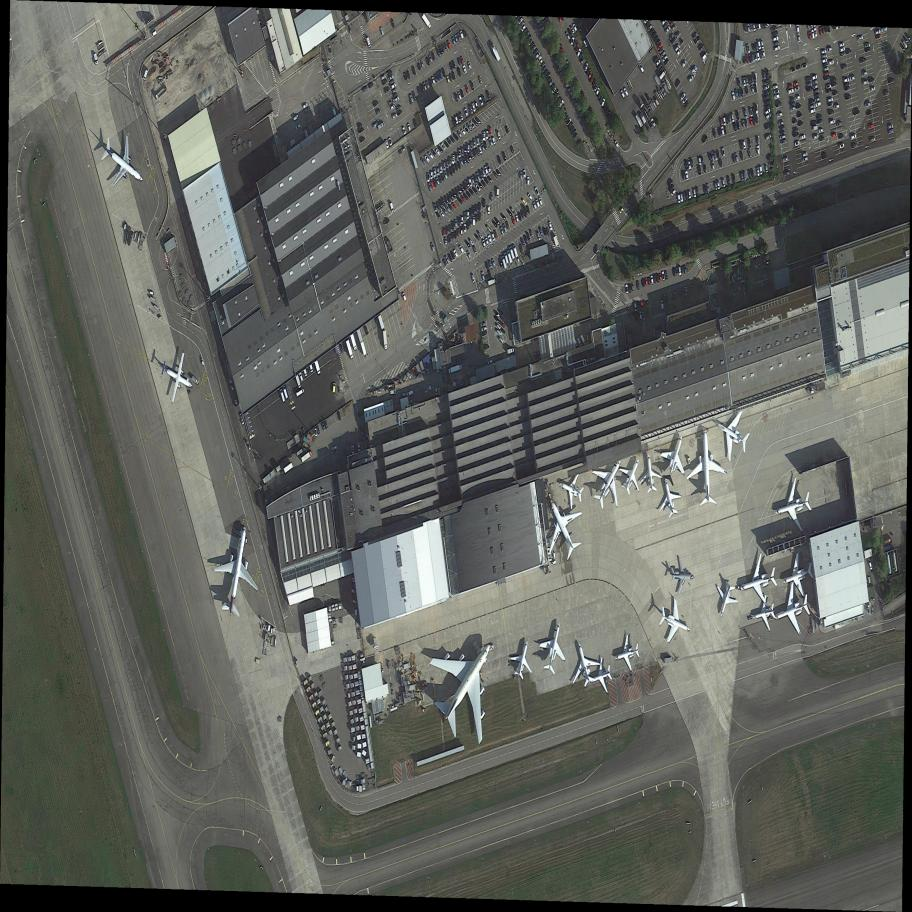large-vehicle: (345, 339, 354, 360), (299, 450, 314, 462), (350, 333, 358, 351), (294, 388, 306, 398), (314, 359, 321, 375), (383, 330, 388, 350), (282, 385, 289, 399), (191, 375, 200, 385), (295, 375, 301, 389), (280, 389, 285, 402)
plane: (388, 592, 549, 768), (519, 485, 605, 582), (201, 512, 269, 629), (570, 440, 640, 526), (147, 335, 213, 418), (680, 421, 730, 513), (704, 394, 761, 472), (734, 547, 784, 614), (530, 608, 574, 681), (771, 579, 818, 647), (770, 474, 817, 540), (565, 631, 606, 701), (653, 425, 697, 489), (608, 446, 652, 508), (653, 590, 698, 650), (706, 565, 748, 627), (647, 470, 690, 528), (779, 546, 817, 601), (504, 627, 540, 684), (555, 461, 590, 513), (611, 630, 646, 678), (635, 447, 664, 502), (748, 593, 782, 639), (585, 653, 618, 699), (666, 550, 697, 597)
small-vehicle: (490, 42, 501, 63), (421, 14, 433, 29), (500, 255, 508, 271), (492, 308, 502, 320), (658, 69, 668, 81), (142, 66, 150, 80), (512, 244, 519, 259), (639, 112, 647, 124), (376, 121, 386, 130), (465, 122, 474, 132), (471, 116, 479, 127), (674, 78, 682, 89), (507, 249, 512, 266), (509, 246, 515, 260), (356, 126, 365, 135), (678, 92, 687, 101), (653, 38, 662, 47), (762, 94, 771, 103), (520, 197, 528, 207), (462, 192, 470, 202), (495, 168, 503, 178), (465, 189, 473, 199), (486, 174, 494, 184), (474, 183, 482, 193), (474, 116, 482, 126), (436, 144, 444, 154), (664, 25, 672, 35), (638, 63, 645, 74), (622, 87, 629, 98), (505, 208, 513, 217), (493, 216, 501, 225), (495, 328, 504, 336), (496, 335, 504, 344), (468, 121, 476, 130), (440, 142, 448, 151), (434, 148, 442, 157), (901, 40, 909, 49), (496, 307, 505, 315), (691, 65, 699, 74), (681, 95, 689, 104), (650, 30, 658, 39), (650, 117, 656, 129), (693, 36, 701, 45), (701, 51, 709, 60), (674, 31, 682, 40), (544, 71, 552, 80), (550, 85, 558, 94), (458, 244, 465, 254), (471, 185, 478, 195), (566, 27, 573, 37), (644, 92, 651, 102), (647, 120, 654, 130), (619, 89, 626, 99), (575, 47, 582, 57), (487, 234, 493, 245), (463, 107, 469, 118), (522, 207, 528, 218), (496, 154, 502, 165), (93, 52, 98, 65), (485, 225, 493, 233), (480, 179, 488, 187), (518, 20, 526, 28), (462, 125, 470, 133), (459, 128, 467, 136), (423, 155, 431, 163), (419, 157, 427, 165), (528, 42, 536, 50), (498, 320, 506, 328), (658, 47, 666, 55), (656, 42, 664, 50), (536, 55, 544, 63), (762, 79, 770, 87), (473, 233, 480, 242), (453, 249, 460, 258), (477, 231, 484, 240), (451, 201, 458, 210), (483, 176, 490, 185), (386, 74, 395, 81), (294, 123, 303, 130), (456, 130, 463, 139), (449, 135, 456, 144), (443, 140, 450, 149), (430, 149, 437, 158), (849, 134, 858, 141), (786, 88, 795, 95), (529, 45, 538, 52), (674, 44, 681, 53), (670, 189, 677, 198), (644, 123, 651, 132), (481, 239, 487, 249), (502, 223, 508, 233), (499, 226, 505, 236), (454, 187, 460, 197), (504, 253, 509, 265), (409, 93, 415, 103), (366, 36, 371, 48), (488, 137, 494, 147), (456, 67, 462, 77), (478, 97, 484, 107), (481, 94, 486, 106), (614, 140, 620, 150), (574, 43, 580, 53), (509, 206, 516, 214), (468, 238, 475, 246), (491, 220, 498, 228), (439, 211, 446, 219), (492, 170, 499, 178), (477, 181, 484, 189), (507, 348, 515, 355), (488, 279, 496, 286), (618, 207, 625, 215), (517, 17, 525, 24), (371, 121, 379, 128), (384, 86, 392, 93), (301, 102, 309, 109), (452, 133, 460, 140), (427, 152, 434, 160), (849, 75, 857, 82), (702, 135, 709, 143), (856, 34, 864, 41), (875, 34, 883, 41), (880, 26, 888, 33), (464, 240, 471, 248), (493, 315, 500, 323), (887, 77, 895, 84), (359, 136, 367, 143), (372, 99, 380, 106), (771, 31, 779, 38), (773, 45, 781, 52), (688, 75, 695, 83), (683, 100, 690, 108), (681, 60, 688, 68), (697, 43, 705, 50), (668, 33, 675, 41), (557, 100, 565, 107), (763, 84, 771, 91), (764, 108, 772, 115), (764, 113, 772, 120), (765, 133, 772, 141), (667, 180, 674, 188), (751, 41, 756, 52), (491, 257, 496, 268), (451, 70, 456, 81), (525, 204, 530, 215), (502, 151, 507, 162), (684, 170, 689, 181), (535, 199, 541, 208), (442, 258, 448, 267), (447, 253, 453, 262), (416, 86, 422, 95), (462, 29, 468, 38), (668, 183, 674, 192), (565, 31, 571, 40), (571, 128, 577, 137), (572, 23, 578, 32), (577, 53, 583, 62), (572, 40, 578, 49), (511, 216, 516, 226), (535, 186, 540, 196), (462, 180, 467, 190), (481, 168, 486, 178), (462, 156, 467, 166), (467, 153, 472, 163), (525, 231, 530, 241), (523, 234, 528, 244), (548, 221, 553, 231), (517, 211, 522, 221), (471, 274, 476, 284), (520, 208, 525, 218), (412, 90, 417, 100), (388, 137, 393, 147), (447, 40, 452, 50), (422, 81, 427, 91), (459, 30, 464, 40), (439, 45, 444, 55), (431, 51, 436, 61), (428, 54, 433, 64), (380, 26, 385, 36), (431, 76, 436, 86), (427, 181, 432, 191), (470, 81, 475, 91), (478, 75, 483, 85), (459, 55, 464, 65), (454, 115, 459, 125), (471, 102, 476, 112), (474, 100, 479, 110), (509, 145, 514, 155), (402, 71, 407, 81), (324, 420, 329, 430), (321, 422, 326, 432), (601, 98, 606, 108), (527, 193, 534, 200), (522, 28, 529, 35), (520, 25, 527, 32), (376, 108, 383, 115), (381, 79, 388, 86), (390, 83, 397, 90), (380, 74, 387, 81), (524, 31, 531, 38), (830, 76, 837, 83), (868, 77, 875, 84), (862, 79, 869, 86), (864, 42, 871, 49), (874, 29, 881, 36), (499, 328, 506, 335), (661, 55, 668, 62), (660, 51, 667, 58), (691, 33, 698, 40), (671, 24, 678, 31), (652, 56, 659, 63), (565, 118, 572, 125), (534, 52, 541, 59), (466, 251, 472, 259), (459, 183, 465, 191), (444, 256, 450, 264), (448, 203, 454, 211), (445, 205, 451, 213), (441, 207, 447, 215), (460, 194, 466, 202), (388, 79, 396, 85), (446, 137, 452, 145), (528, 38, 534, 46), (839, 46, 847, 52), (850, 143, 858, 149), (828, 119, 836, 125), (799, 135, 807, 141), (792, 131, 800, 137), (842, 82, 850, 88), (882, 89, 890, 95), (853, 109, 861, 115), (772, 41, 780, 47), (647, 24, 653, 32), (663, 22, 669, 30), (569, 26, 575, 34), (567, 122, 573, 130), (538, 58, 544, 66), (655, 59, 661, 67), (457, 185, 462, 194), (538, 197, 543, 206), (505, 220, 510, 229), (451, 188, 456, 197), (466, 180, 471, 189), (476, 172, 481, 181), (484, 165, 489, 174), (487, 164, 492, 173), (465, 154, 470, 163), (470, 150, 475, 159), (449, 190, 454, 199), (443, 194, 448, 203), (436, 201, 441, 210), (520, 237, 525, 246), (539, 227, 544, 236), (519, 245, 524, 254), (484, 260, 489, 269), (385, 139, 390, 148), (406, 70, 411, 79), (451, 36, 456, 45), (454, 34, 459, 43), (441, 43, 446, 52), (391, 20, 396, 29), (328, 45, 333, 54), (332, 107, 337, 116), (478, 146, 483, 155), (483, 141, 488, 150), (432, 178, 437, 187), (430, 180, 435, 189), (454, 92, 459, 101), (456, 57, 461, 66), (451, 60, 456, 69), (448, 61, 453, 70), (436, 71, 441, 80), (459, 112, 464, 121), (504, 125, 509, 134), (746, 23, 751, 32), (760, 40, 765, 49), (316, 426, 321, 435), (583, 39, 588, 48), (595, 87, 600, 96), (584, 63, 589, 72), (747, 149, 752, 158), (726, 177, 731, 186), (390, 202, 394, 213), (469, 104, 473, 115), (797, 32, 801, 43), (749, 107, 753, 118), (681, 170, 685, 181), (500, 213, 506, 220), (468, 188, 474, 195), (496, 323, 502, 330), (481, 326, 488, 332), (480, 322, 487, 328), (393, 96, 400, 102), (362, 86, 369, 92), (826, 97, 833, 103), (825, 83, 832, 89), (823, 71, 830, 77), (820, 49, 827, 55), (831, 81, 837, 88), (839, 142, 845, 149), (869, 136, 876, 142), (814, 97, 821, 103), (812, 79, 819, 85), (811, 74, 818, 80), (801, 63, 808, 69), (802, 156, 809, 162), (859, 57, 866, 63), (812, 134, 819, 140), (795, 103, 802, 109), (845, 94, 852, 100), (771, 26, 778, 32), (772, 36, 779, 42), (396, 109, 403, 115), (331, 445, 338, 451), (664, 58, 670, 65), (649, 28, 655, 35), (678, 39, 685, 45), (670, 37, 676, 44), (779, 134, 786, 140), (548, 80, 554, 87), (541, 66, 547, 73), (540, 62, 546, 69), (764, 105, 771, 111), (777, 112, 784, 118), (742, 54, 746, 64), (532, 202, 537, 210), (526, 176, 530, 186), (472, 246, 477, 254), (485, 237, 489, 247), (479, 169, 483, 179), (636, 280, 640, 290), (625, 284, 629, 294), (402, 293, 407, 301), (634, 302, 638, 312), (678, 266, 682, 276), (672, 266, 676, 276), (450, 251, 455, 259), (488, 260, 492, 270), (481, 271, 485, 281), (438, 175, 443, 183), (402, 126, 406, 136), (419, 84, 424, 92), (457, 32, 461, 42), (436, 47, 440, 57), (428, 79, 433, 87), (497, 131, 501, 141), (433, 168, 437, 178), (455, 153, 459, 163), (464, 146, 468, 156), (463, 64, 467, 74), (449, 73, 454, 81), (468, 61, 472, 71), (457, 113, 461, 123), (747, 44, 751, 54), (756, 52, 761, 60), (494, 230, 498, 240), (477, 203, 482, 211), (594, 244, 598, 254), (811, 29, 815, 39), (748, 53, 752, 63), (758, 41, 762, 51), (332, 383, 336, 393), (685, 190, 689, 200), (677, 194, 681, 204), (570, 37, 575, 45), (597, 92, 602, 100), (593, 84, 598, 92), (589, 76, 594, 84), (588, 71, 593, 79), (580, 56, 585, 64), (706, 184, 710, 194), (744, 118, 748, 128), (725, 114, 729, 124), (728, 113, 732, 123), (687, 160, 691, 170), (721, 126, 725, 136), (714, 181, 718, 191), (722, 178, 726, 188), (515, 214, 519, 223), (454, 162, 458, 171), (449, 167, 453, 176), (468, 178, 472, 187), (447, 193, 451, 202), (483, 344, 489, 350), (640, 301, 644, 310), (664, 270, 668, 279), (650, 275, 654, 284), (661, 300, 664, 312), (468, 218, 472, 227), (537, 232, 541, 241), (407, 123, 411, 132), (392, 113, 398, 119), (412, 66, 416, 75), (436, 177, 440, 186), (367, 81, 373, 87), (348, 26, 352, 35), (293, 115, 299, 121), (434, 74, 438, 83), (492, 136, 496, 145), (442, 68, 446, 77), (440, 70, 444, 79), (458, 91, 462, 100), (487, 91, 491, 100), (826, 88, 832, 94), (841, 64, 847, 70), (839, 42, 845, 48), (839, 50, 845, 56), (739, 141, 743, 150), (736, 120, 740, 129), (831, 90, 837, 96), (831, 132, 837, 138), (809, 103, 815, 109), (793, 81, 799, 87), (794, 141, 800, 147), (870, 86, 876, 92), (904, 38, 910, 44), (887, 123, 893, 129), (754, 52, 758, 61), (762, 49, 766, 58), (457, 160, 461, 169), (708, 152, 712, 161), (814, 28, 818, 37), (796, 25, 800, 34), (755, 42, 759, 51), (819, 26, 823, 35), (314, 428, 318, 437), (357, 443, 361, 452), (351, 445, 355, 454), (784, 171, 790, 177), (676, 49, 682, 55), (869, 562, 873, 571), (533, 49, 539, 55), (748, 75, 752, 84), (735, 89, 739, 98), (732, 91, 736, 100), (742, 119, 746, 128), (744, 109, 748, 118), (731, 113, 735, 122), (740, 88, 744, 97), (779, 130, 785, 136), (778, 120, 784, 126), (773, 84, 779, 90), (723, 125, 727, 134), (719, 116, 723, 125), (712, 128, 716, 137), (734, 153, 738, 162), (698, 166, 702, 175), (716, 180, 720, 189), (740, 152, 744, 161), (759, 166, 763, 175), (420, 60, 425, 67), (815, 102, 822, 107), (797, 120, 804, 125), (796, 112, 803, 117), (816, 114, 823, 119), (816, 118, 823, 123), (780, 139, 787, 144), (773, 89, 780, 94), (662, 270, 665, 281), (452, 154, 455, 165), (478, 212, 481, 223), (680, 192, 683, 203), (743, 76, 746, 87), (522, 170, 526, 178), (452, 165, 456, 173), (430, 243, 434, 251), (491, 233, 495, 241), (459, 157, 463, 165), (439, 199, 443, 207), (529, 229, 533, 237), (482, 199, 486, 207), (546, 228, 550, 236), (542, 227, 546, 235), (444, 171, 448, 179), (444, 42, 448, 50), (426, 81, 430, 89), (481, 144, 485, 152), (446, 76, 450, 84), (466, 86, 470, 94), (460, 89, 464, 97), (752, 23, 756, 31), (688, 191, 692, 199), (753, 74, 757, 82), (684, 160, 688, 168), (743, 141, 747, 149), (482, 331, 488, 336), (473, 217, 476, 227), (496, 188, 499, 198), (464, 212, 467, 222), (390, 104, 395, 110), (392, 92, 398, 97), (391, 88, 397, 93), (483, 132, 486, 142), (473, 139, 476, 149), (437, 166, 440, 176), (467, 144, 470, 154), (868, 124, 874, 129), (824, 76, 830, 81), (823, 67, 829, 72), (829, 60, 834, 66), (822, 58, 828, 63), (822, 53, 827, 59), (827, 47, 833, 52), (834, 104, 840, 109), (838, 134, 844, 139), (836, 121, 842, 126), (865, 102, 871, 107), (810, 108, 815, 114), (794, 86, 800, 91), (802, 152, 808, 157), (796, 65, 801, 71), (862, 70, 867, 76), (888, 129, 894, 134), (470, 207, 473, 217), (844, 86, 850, 91), (683, 191, 686, 201), (693, 189, 696, 199), (746, 76, 749, 86), (779, 126, 785, 131), (764, 101, 770, 106), (711, 161, 714, 171), (722, 147, 725, 157), (711, 151, 714, 161), (744, 171, 747, 181), (757, 145, 760, 155), (471, 176, 475, 183), (441, 174, 445, 181), (417, 63, 421, 70), (716, 150, 720, 157), (751, 170, 755, 177), (765, 166, 769, 173), (755, 136, 759, 143), (520, 171, 523, 180), (447, 169, 450, 178), (642, 311, 645, 320), (676, 267, 679, 276), (463, 224, 466, 233), (489, 127, 492, 136), (476, 147, 479, 156), (470, 141, 473, 150), (443, 161, 446, 170), (446, 160, 449, 169), (458, 149, 461, 158), (461, 148, 464, 157), (746, 54, 749, 63), (734, 122, 737, 131), (752, 53, 755, 62), (472, 205, 475, 214), (808, 31, 811, 40), (696, 188, 699, 197), (738, 88, 741, 97), (753, 116, 756, 125), (751, 74, 754, 83), (714, 152, 717, 161), (701, 156, 704, 165), (699, 157, 702, 166), (732, 153, 735, 162), (733, 175, 736, 184), (757, 168, 760, 177), (488, 360, 493, 365), (819, 136, 824, 141), (866, 110, 871, 115), (813, 85, 818, 90), (790, 106, 795, 111), (775, 94, 780, 99), (442, 198, 445, 206), (434, 204, 437, 212), (631, 283, 634, 291), (639, 312, 642, 320), (684, 266, 687, 274), (645, 278, 648, 286), (443, 228, 446, 236), (454, 231, 457, 239), (457, 229, 460, 237), (476, 138, 479, 146), (427, 173, 430, 181), (449, 158, 452, 166), (828, 110, 834, 114), (783, 158, 789, 162), (795, 96, 801, 100), (806, 83, 812, 87), (818, 129, 824, 133), (475, 214, 478, 222), (600, 95, 603, 103), (704, 186, 707, 194), (746, 87, 749, 95), (751, 85, 754, 93), (738, 78, 741, 86), (723, 117, 726, 125), (748, 170, 751, 178), (741, 173, 744, 181), (748, 139, 751, 147), (681, 266, 684, 273), (448, 224, 451, 231), (448, 235, 451, 242), (451, 232, 454, 239), (490, 193, 493, 200), (736, 112, 739, 119), (750, 118, 753, 125), (703, 164, 706, 171), (440, 164, 442, 174), (846, 49, 851, 53), (791, 67, 795, 72), (460, 229, 463, 235), (488, 206, 490, 215), (486, 131, 488, 140), (475, 204, 477, 213), (764, 71, 766, 80), (720, 158, 722, 167), (648, 277, 650, 285), (455, 220, 457, 228), (446, 226, 448, 234), (461, 216, 463, 224), (467, 212, 469, 220), (431, 171, 433, 179), (445, 238, 447, 245), (660, 274, 662, 281)
